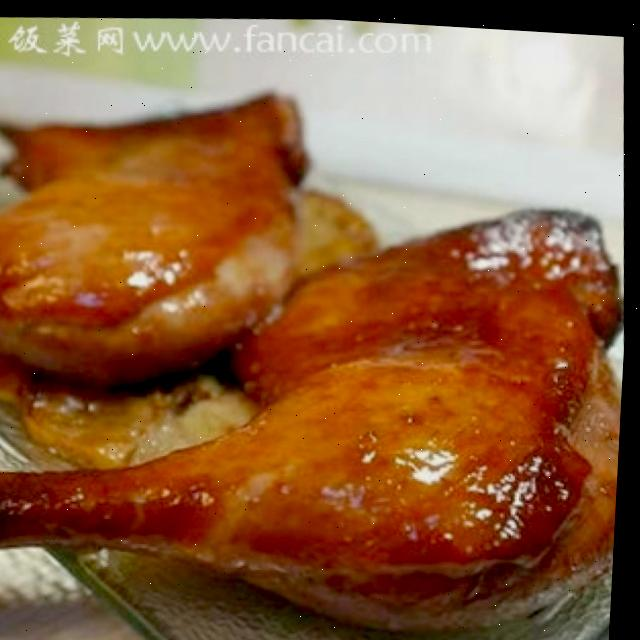烧串烤肉: (0, 49, 638, 640)
